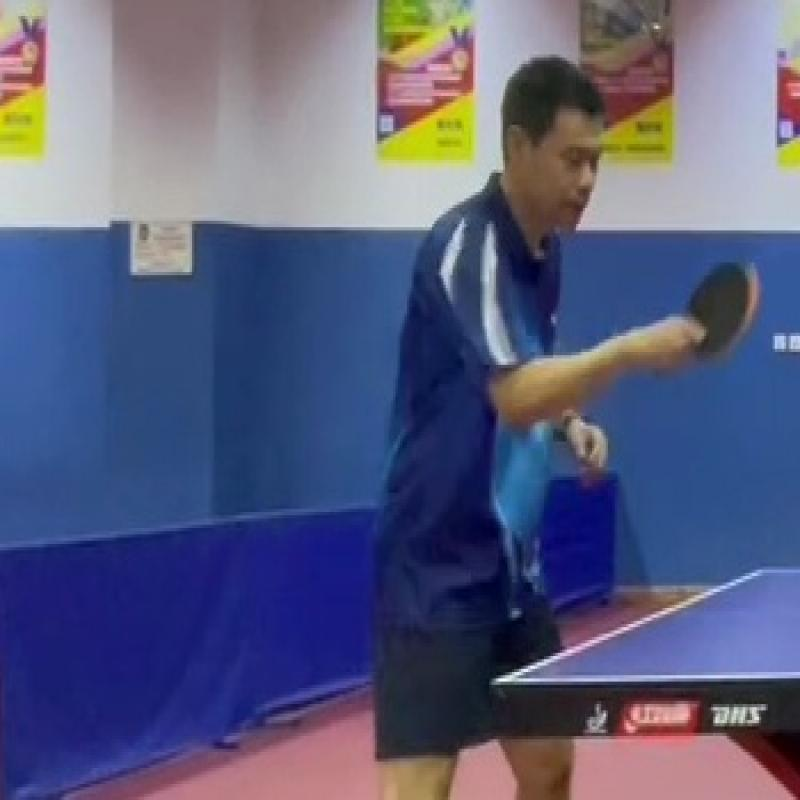bats: (676, 256, 770, 373)
